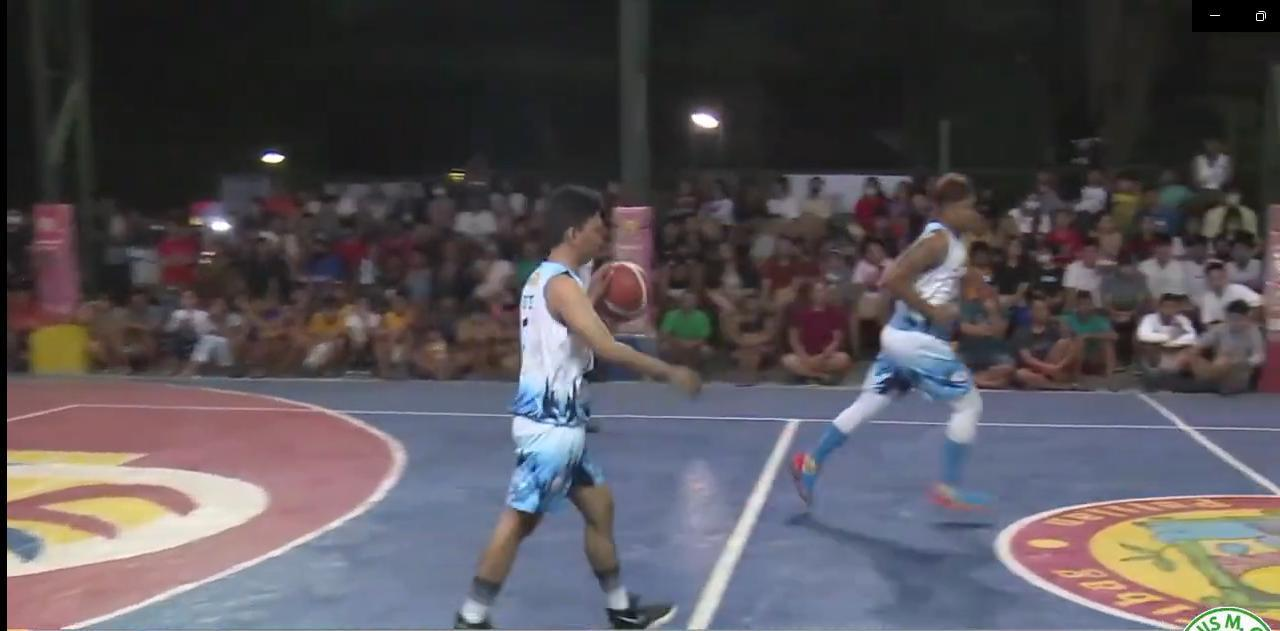ball: (597, 258, 654, 328)
human: (452, 170, 689, 631), (773, 155, 1010, 547)
